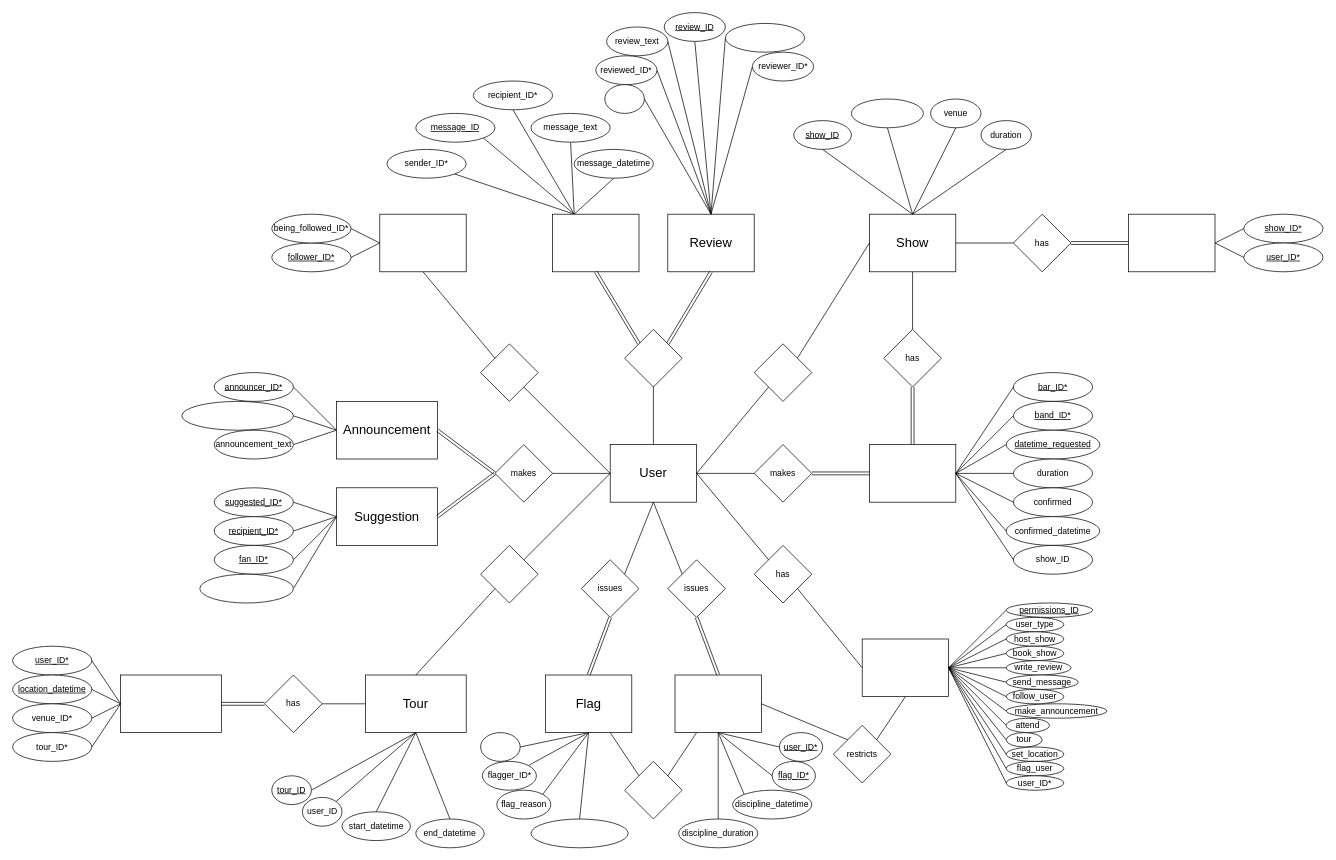
Some shapes in this 1336 by 860 pixel diagram are drawn without their labels. The centre of each missing label's shape, as x and y in pixels:
"announcement_datetime" goes at [237,415].
"Attendance" goes at [1171,242].
"attends" goes at [782,372].
"Booking" goes at [912,473].
"Discipline" goes at [717,703].
"flag_ID" goes at [500,746].
"flagged_message_ID*" goes at [579,833].
"Following" goes at [422,242].
"goes on" goes at [509,574].
"joins" goes at [509,372].
"Location" goes at [170,703].
"Message" goes at [595,242].
"Permissions" goes at [905,667].
"rating" goes at [624,98].
"references" goes at [653,790].
"review_datetime" goes at [765,37].
"show_datetime" goes at [887,113].
"suggestion_datetime" goes at [246,588].
"writes" goes at [653,358].
